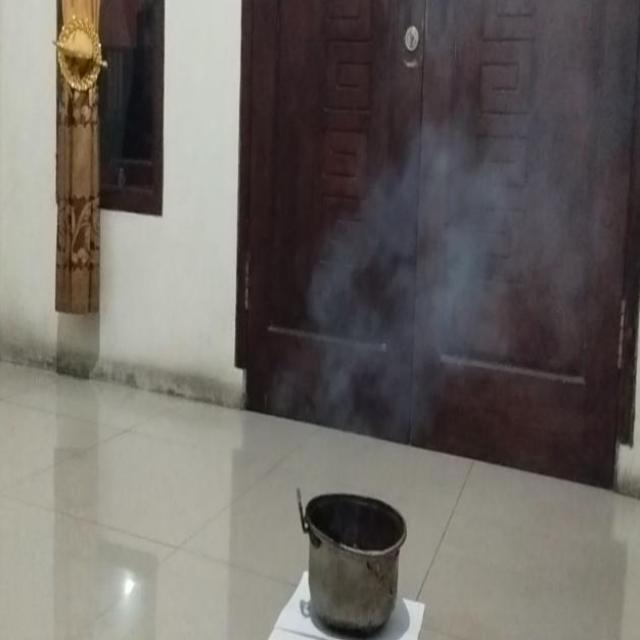fire: (302, 114, 513, 456)
